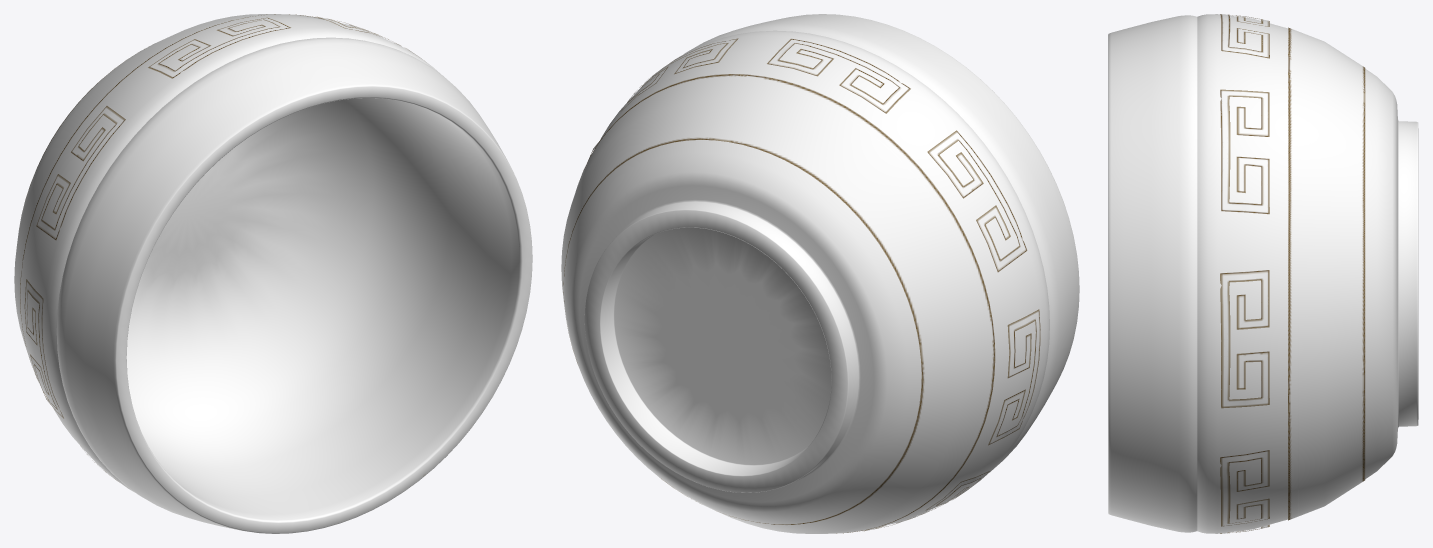
3 views of the same model, side by side, from view 1: azimuth 30°, elevation 25°; view 2: azimuth 150°, elevation 25°; view 3: azimuth 270°, elevation 25° (orthographic).
Visible parts, largest first — view 1: mk4, mk4-2; view 2: mk4, mk4-2; view 3: mk4, mk4-2.
Boxes of the visible parts, <box> form: mk4: <box>18,14,532,533</box>; mk4-2: <box>14,14,424,480</box>; mk4: <box>563,14,1079,533</box>; mk4-2: <box>561,38,1040,533</box>; mk4: <box>1108,14,1418,533</box>; mk4-2: <box>1220,14,1365,533</box>.
Size of the model in its own units: 61.43 by 61.43 by 36.68.
2 materials, 2 textured.
